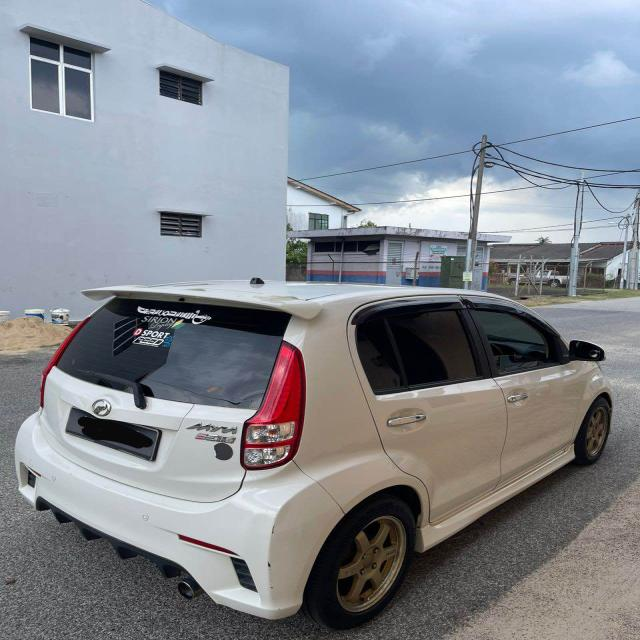PeroduaMyvi: (13, 276, 615, 630)
